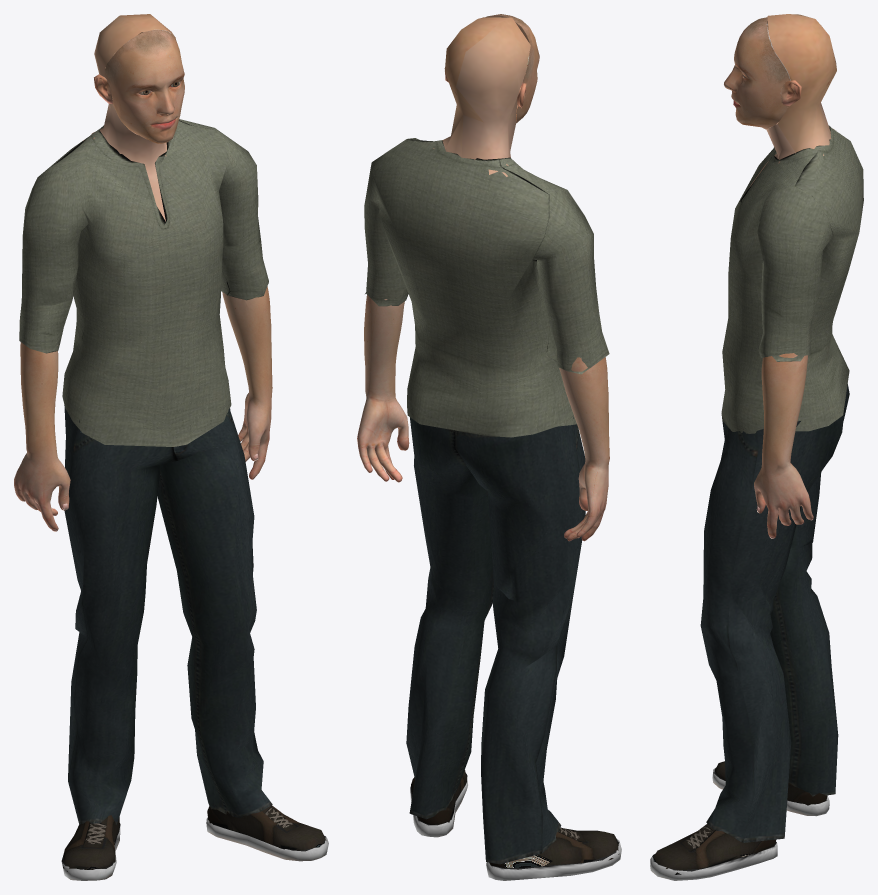
The model's file is main.obj.
3 renders of one model, left to right at view 1: azimuth 30°, elevation 25°; view 2: azimuth 150°, elevation 25°; view 3: azimuth 270°, elevation 25°, orthographic. The views are drawn at different scales.
Visible parts, largest first — view 1: Genesis3Male.Shape_Genesis3Male; view 2: Genesis3Male.Shape_Genesis3Male; view 3: Genesis3Male.Shape_Genesis3Male.
Boxes of the visible parts, <box> form: Genesis3Male.Shape_Genesis3Male: <box>14,14,328,880</box>; Genesis3Male.Shape_Genesis3Male: <box>357,14,621,880</box>; Genesis3Male.Shape_Genesis3Male: <box>650,14,863,880</box>.
Bounding box in the file's own units: 56.57 × 181 × 43.69.
1 material, 1 textured.
